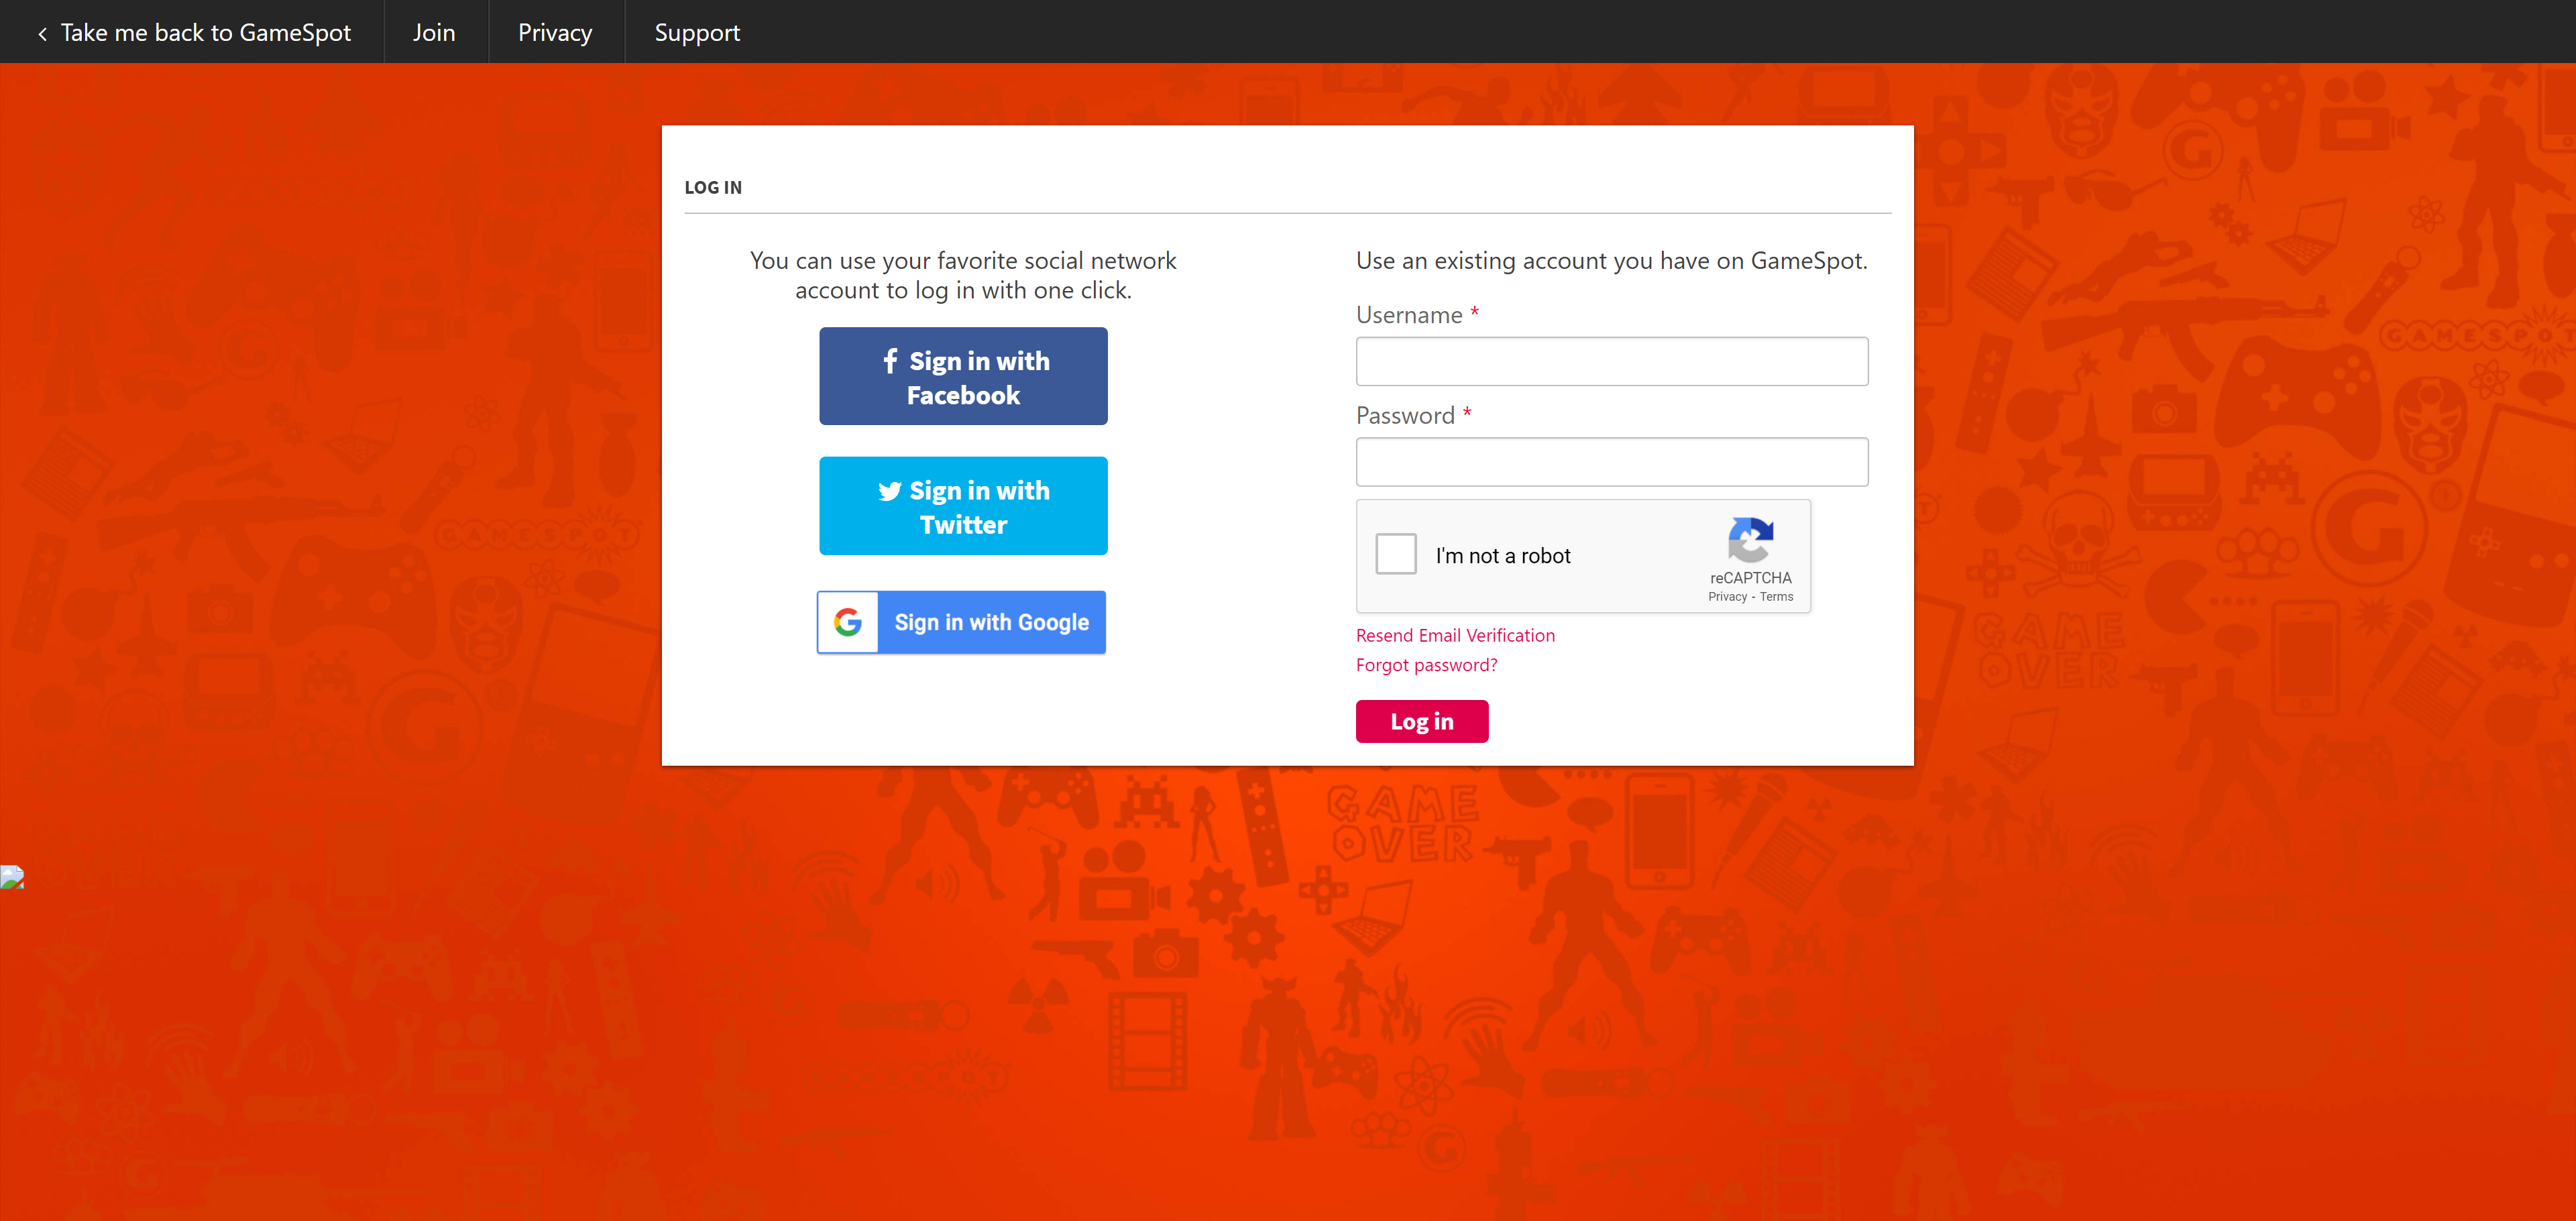login_button: (1355, 700, 1490, 743)
login_form: (1349, 297, 1876, 748)
